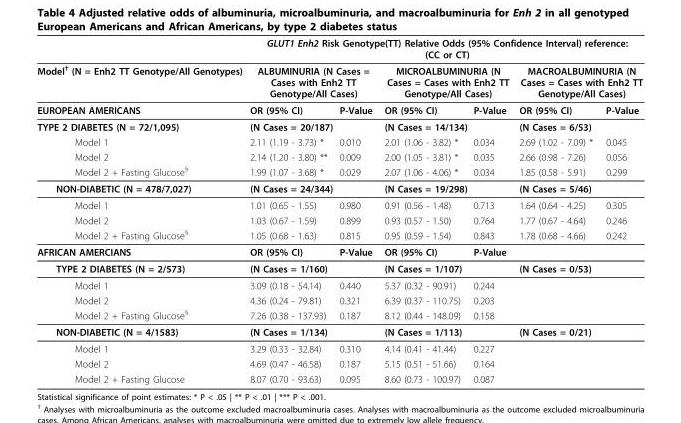table: (36, 36, 642, 384)
table column: (36, 36, 245, 384), (377, 36, 466, 384), (245, 36, 332, 384), (513, 36, 598, 384), (466, 36, 513, 384), (332, 36, 377, 384), (598, 36, 642, 384)
table column header: (36, 36, 642, 118)
table row: (36, 61, 642, 101), (36, 36, 642, 61), (36, 101, 642, 118), (36, 179, 642, 196), (36, 226, 642, 243), (36, 259, 642, 276), (36, 306, 642, 323), (36, 323, 642, 340), (36, 118, 642, 134), (36, 163, 642, 179), (36, 196, 642, 212), (36, 243, 642, 259), (36, 276, 642, 292), (36, 355, 642, 371), (36, 134, 642, 149), (36, 340, 642, 355), (36, 149, 642, 163), (36, 212, 642, 226), (36, 292, 642, 306), (36, 371, 642, 384)
table spanning cell: (36, 36, 245, 118), (245, 36, 642, 61), (377, 61, 513, 101), (245, 61, 377, 101), (513, 61, 642, 101), (377, 179, 513, 196), (377, 259, 513, 276), (377, 323, 513, 340), (245, 179, 377, 196), (245, 259, 377, 276), (245, 323, 377, 340), (513, 179, 642, 196), (513, 259, 642, 276), (513, 323, 642, 340), (377, 118, 513, 134), (245, 118, 377, 134), (513, 118, 642, 134)
